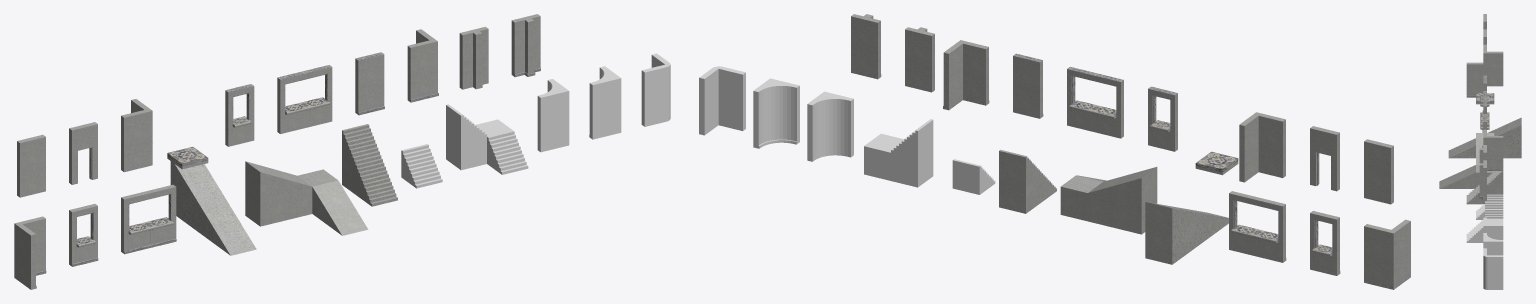
File: building_mesh_library.glb
3 renders of one model, left to right at view 1: azimuth 30°, elevation 25°; view 2: azimuth 150°, elevation 25°; view 3: azimuth 270°, elevation 25°, orthographic. The views are drawn at different scales.
Parts seen in each view (by area): view 1: ramp2_comp_6x6x4, ramp1_comp_2x8x4, stairs3_comp_4x4x4, stairs1_comp_2x4x4, window2skirt_comp_4x1x4, window2_comp_4x1x4, cornerinroundskirt_comp_2.2x2.2x4, cornerinround_comp_2.2x2.2x4, cornerinskirt_comp_2.2x2.2x4, corner_comp_2.2x2.2x4, corneroutskirt_comp_2.15x2.25x4, corneroutround_comp_2.2x2.2x4 (+9 smaller); view 2: ramp2_comp_6x6x4, ramp1_comp_2x8x4, stairs3_comp_4x4x4, cornerinroundskirt_comp_2.2x2.2x4, cornerinround_comp_2.2x2.2x4, corner_comp_2.2x2.2x4, cornerinskirt_comp_2.2x2.2x4, corneroutround_comp_2.2x2.2x4, corneroutskirt_comp_2.15x2.25x4, stairs1_comp_2x4x4, window2skirt_comp_4x1x4, window2_comp_4x1x4 (+9 smaller); view 3: ramp1_comp_2x8x4, ramp2_comp_6x6x4, stairs3_comp_4x4x4, corneroutround_comp_2.2x2.2x4, corner_comp_2.2x2.2x4, corneroutskirt_comp_2.15x2.25x4, stairs1_comp_2x4x4, cornerinskirt_comp_2.2x2.2x4, cornerinroundskirt_comp_2.2x2.2x4, cornerinround_comp_2.2x2.2x4, wallskirtcolumn_comp_2x0.85x4, window2_comp_4x1x4 (+5 smaller).
Part boxes in pixels (x1=…): ramp2_comp_6x6x4: x1=245, y1=161, x2=368, y2=235; ramp1_comp_2x8x4: x1=170, y1=161, x2=256, y2=255; stairs3_comp_4x4x4: x1=446, y1=104, x2=528, y2=174; stairs1_comp_2x4x4: x1=342, y1=124, x2=397, y2=206; window2skirt_comp_4x1x4: x1=121, y1=184, x2=176, y2=254; window2_comp_4x1x4: x1=277, y1=65, x2=332, y2=133; cornerinroundskirt_comp_2.2x2.2x4: x1=589, y1=66, x2=621, y2=139; cornerinround_comp_2.2x2.2x4: x1=537, y1=79, x2=569, y2=152; cornerinskirt_comp_2.2x2.2x4: x1=14, y1=216, x2=46, y2=289; corner_comp_2.2x2.2x4: x1=121, y1=99, x2=152, y2=172; corneroutskirt_comp_2.15x2.25x4: x1=407, y1=29, x2=438, y2=102; corneroutround_comp_2.2x2.2x4: x1=641, y1=53, x2=670, y2=126; ramp2_comp_6x6x4: x1=1060, y1=167, x2=1157, y2=234; ramp1_comp_2x8x4: x1=1145, y1=202, x2=1228, y2=264; stairs3_comp_4x4x4: x1=864, y1=119, x2=933, y2=187; cornerinroundskirt_comp_2.2x2.2x4: x1=753, y1=78, x2=799, y2=148; cornerinround_comp_2.2x2.2x4: x1=807, y1=91, x2=853, y2=161; corner_comp_2.2x2.2x4: x1=1239, y1=112, x2=1285, y2=182; cornerinskirt_comp_2.2x2.2x4: x1=1364, y1=219, x2=1410, y2=289; corneroutround_comp_2.2x2.2x4: x1=699, y1=66, x2=745, y2=135; corneroutskirt_comp_2.15x2.25x4: x1=943, y1=40, x2=989, y2=110; stairs1_comp_2x4x4: x1=999, y1=149, x2=1056, y2=213; window2skirt_comp_4x1x4: x1=1229, y1=191, x2=1286, y2=262; window2_comp_4x1x4: x1=1067, y1=66, x2=1123, y2=138; ramp1_comp_2x8x4: x1=1448, y1=117, x2=1521, y2=158; ramp2_comp_6x6x4: x1=1439, y1=133, x2=1494, y2=188; stairs3_comp_4x4x4: x1=1466, y1=194, x2=1503, y2=242; corneroutround_comp_2.2x2.2x4: x1=1483, y1=248, x2=1503, y2=289; corner_comp_2.2x2.2x4: x1=1483, y1=44, x2=1503, y2=86; corneroutskirt_comp_2.15x2.25x4: x1=1483, y1=129, x2=1503, y2=170; stairs1_comp_2x4x4: x1=1466, y1=171, x2=1503, y2=204; cornerinskirt_comp_2.2x2.2x4: x1=1466, y1=62, x2=1483, y2=97; cornerinroundskirt_comp_2.2x2.2x4: x1=1483, y1=233, x2=1503, y2=255; cornerinround_comp_2.2x2.2x4: x1=1483, y1=217, x2=1503, y2=239; wallskirtcolumn_comp_2x0.85x4: x1=1479, y1=160, x2=1486, y2=200; window2_comp_4x1x4: x1=1480, y1=91, x2=1489, y2=126.
Bounding box in the file's own units: 50.4 × 10 × 9.
Materials: 1 (1 with a texture image).
